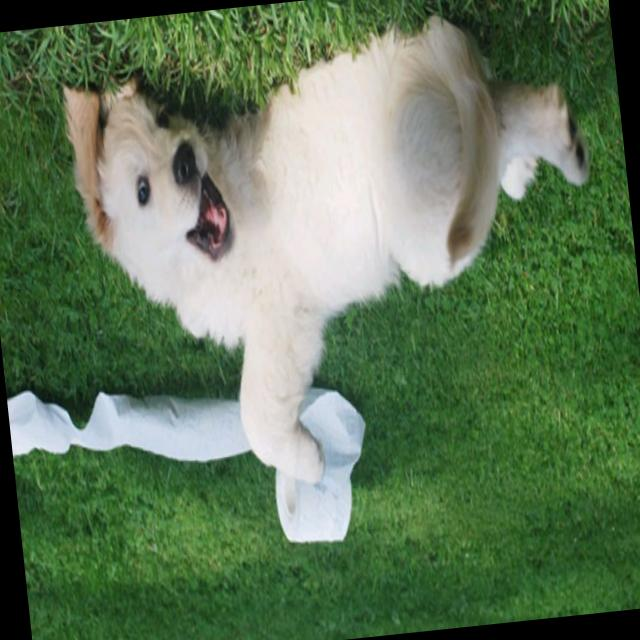dogs: (55, 0, 622, 508)
